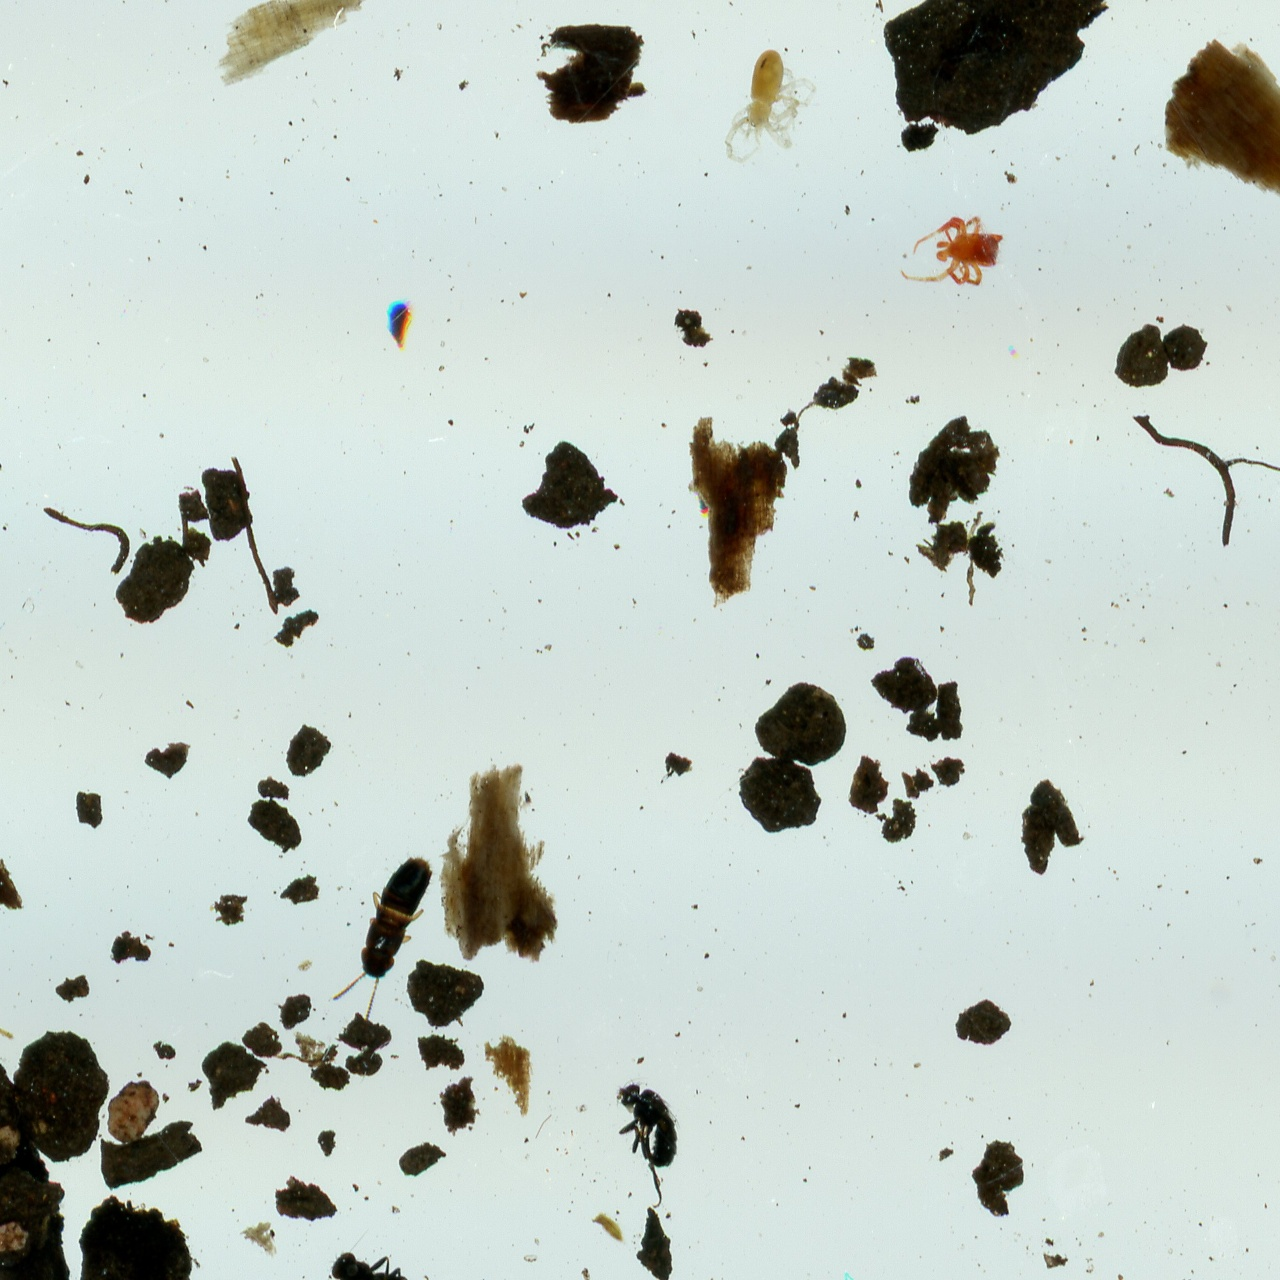arthropod: (318, 833, 455, 1024), (719, 46, 823, 170), (611, 1077, 683, 1212), (309, 1211, 448, 1280), (897, 211, 1010, 290)
